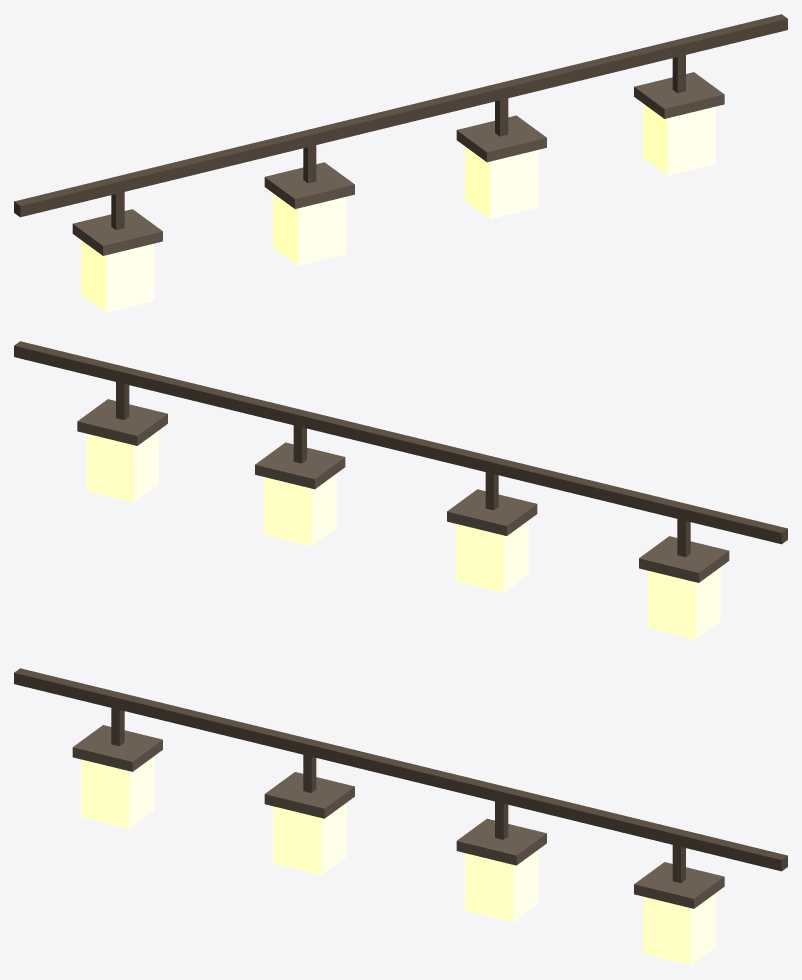
File: lantern_string.glb
3 renders of one model, top to bottom at view 1: azimuth 30°, elevation 25°; view 2: azimuth 150°, elevation 25°; view 3: azimuth 330°, elevation 25°, orthographic.
Visible parts, largest first — view 1: lantern_string; view 2: lantern_string; view 3: lantern_string.
Part boxes in pixels (x1,y1,x2,y2): lantern_string: (14,14,787,312); lantern_string: (14,341,787,639); lantern_string: (14,668,787,965).
Bounding box in the file's own units: 3.2 × 0.4725 × 0.22.
